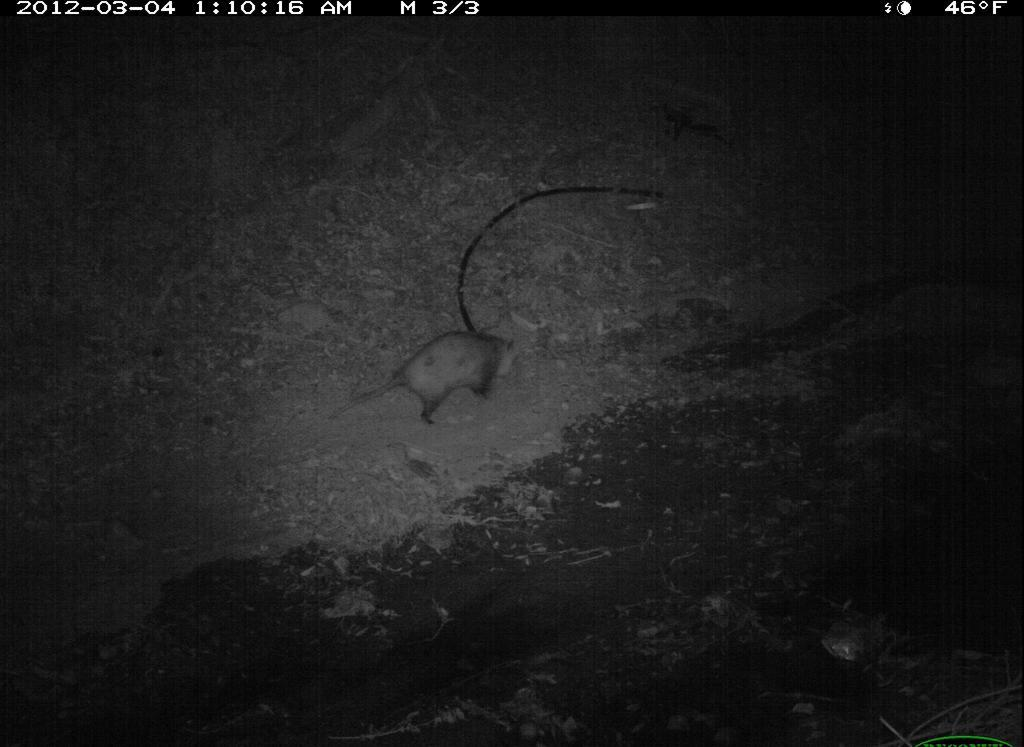opossum: (333, 318, 568, 461)
